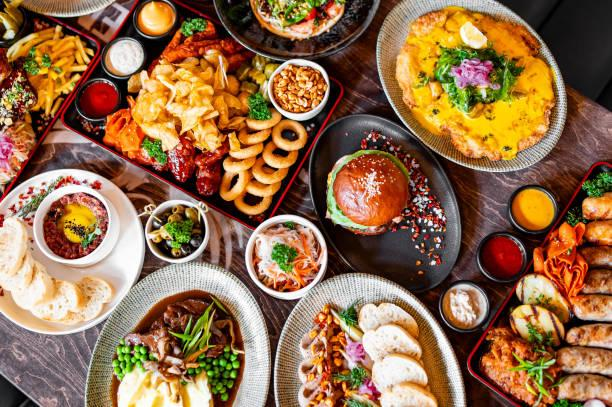Braised Crucian Carp: (45, 0, 357, 243), (460, 165, 609, 402), (377, 1, 562, 175), (309, 112, 461, 289), (86, 263, 272, 406), (274, 271, 460, 405), (2, 166, 146, 333), (1, 15, 95, 195), (211, 0, 375, 61)
